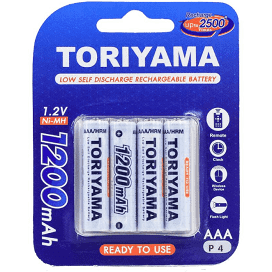Battery: (163, 117, 192, 234), (80, 117, 109, 233), (137, 117, 164, 234), (109, 117, 136, 233)
